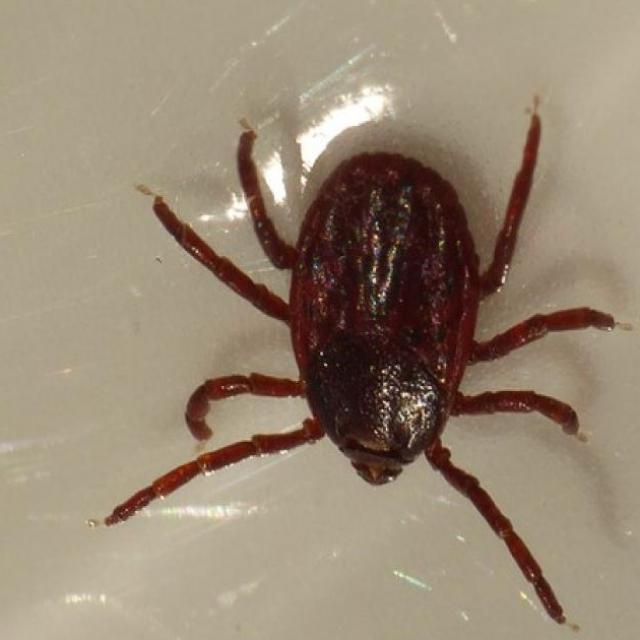Rhipicephalus Sanguineus-F: (94, 109, 616, 624)
